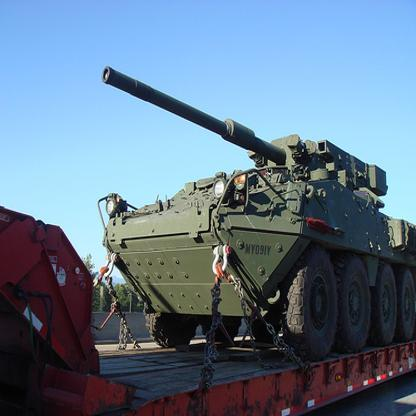Tank: (87, 64, 415, 350)
